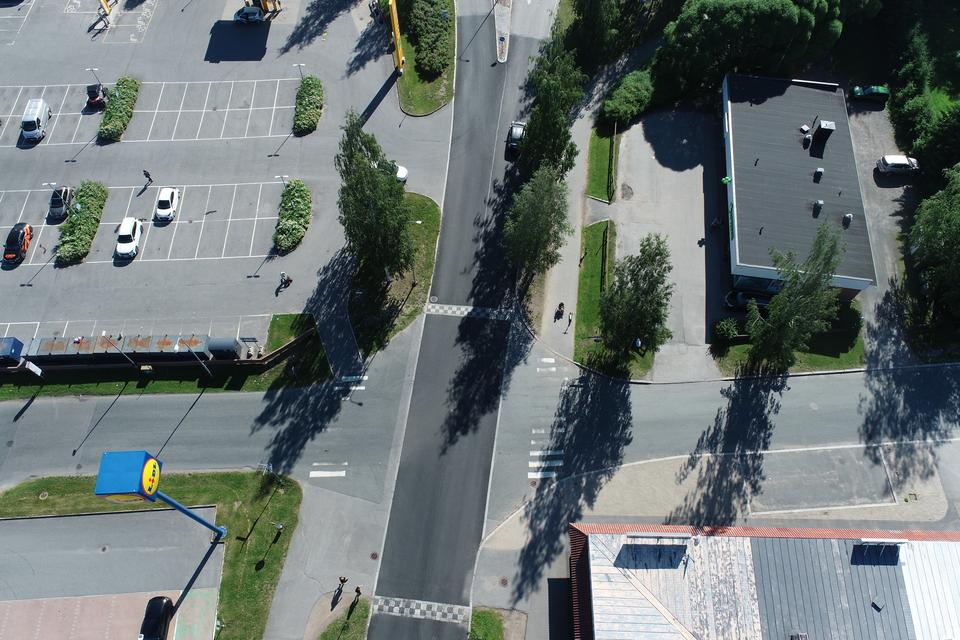intersection: (469, 307, 765, 550), (176, 314, 411, 560)
